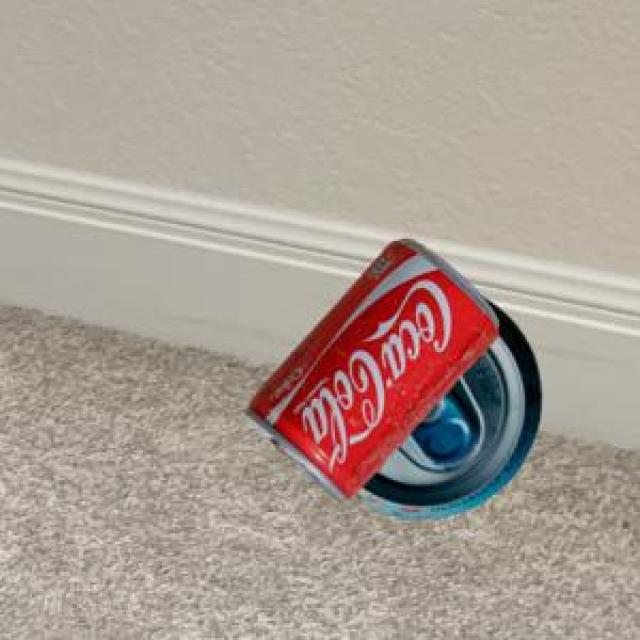logam: (242, 236, 496, 500), (349, 298, 539, 515)
